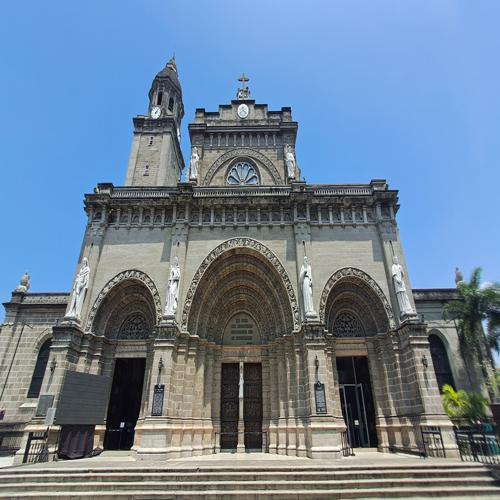Manila Cathedral Church: (20, 39, 479, 451)
